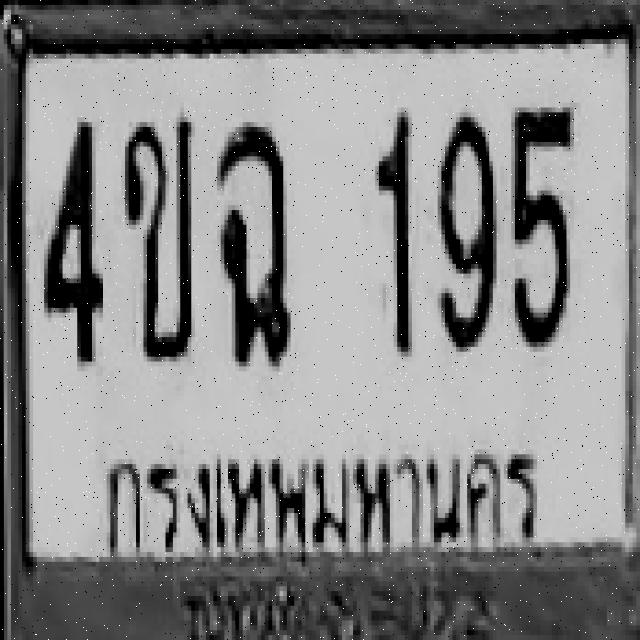0: (436, 112, 495, 352)
1: (372, 110, 412, 359)
11KhorKhai: (120, 115, 194, 359)
18ChorChing: (213, 120, 290, 364)
4: (39, 115, 101, 364)
5: (512, 105, 574, 349)
9: (436, 110, 495, 350)
Bangkok: (80, 429, 566, 568)
